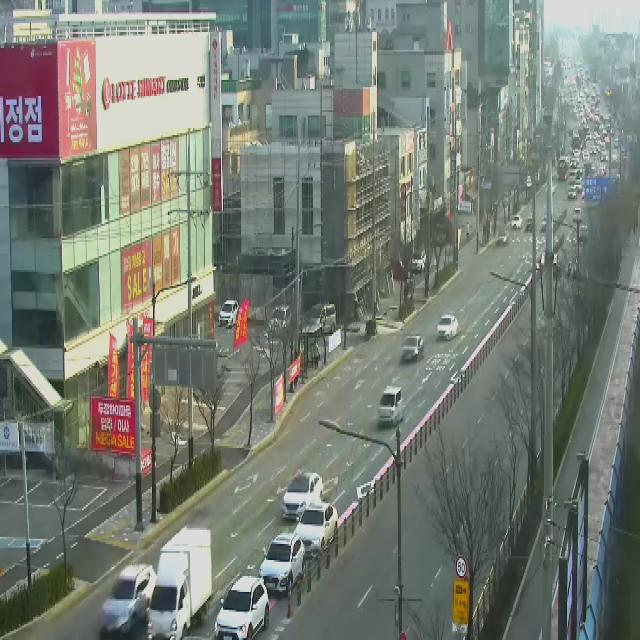Bus: (557, 156, 570, 181)
Car: (100, 565, 158, 640), (215, 576, 269, 640), (259, 534, 305, 596), (294, 503, 338, 557), (282, 473, 322, 521), (378, 387, 403, 428), (308, 306, 336, 340), (268, 307, 292, 338), (218, 300, 239, 330), (437, 314, 458, 342), (401, 336, 423, 362), (412, 251, 426, 272), (542, 215, 556, 232), (512, 215, 523, 229), (496, 230, 507, 243), (573, 208, 582, 222), (568, 187, 577, 200), (574, 180, 582, 192), (526, 218, 532, 231)
Truck: (147, 527, 211, 640)
